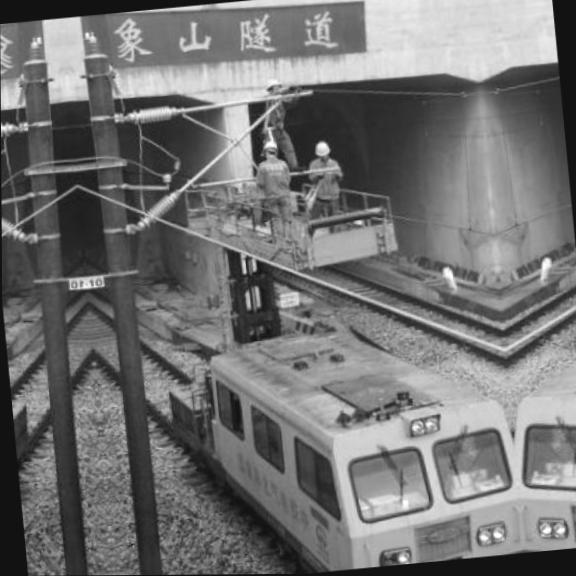safety_vest: (254, 138, 298, 256), (300, 138, 349, 236), (259, 74, 298, 170)
